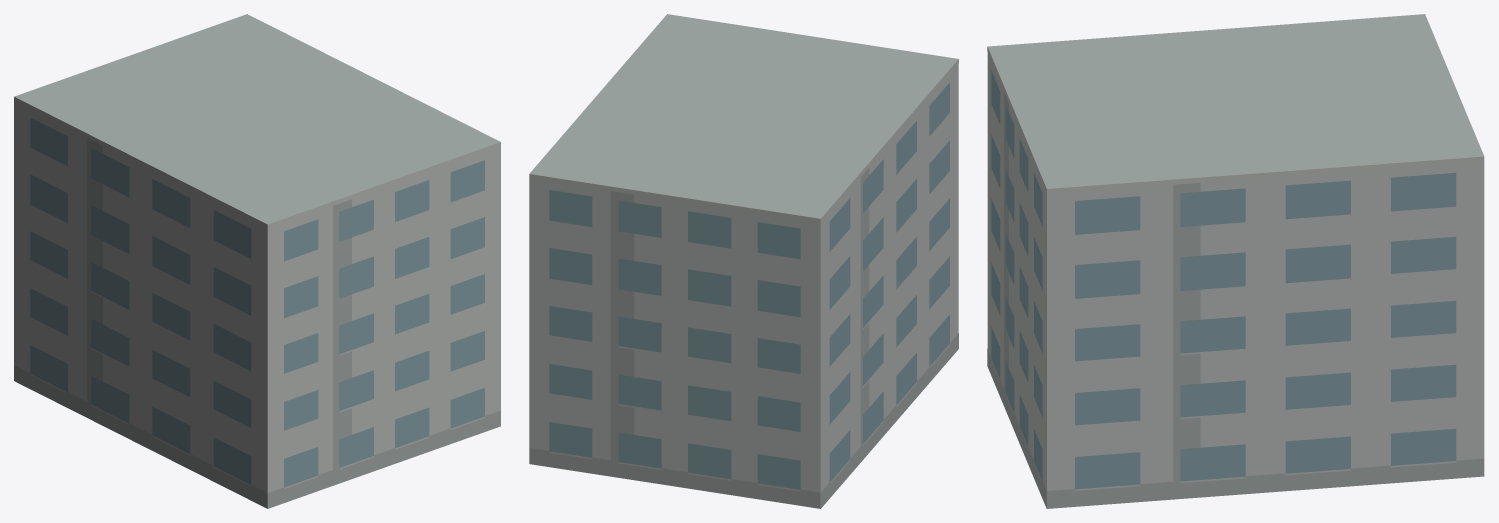
The model's file is residential-9effd6e1-1633-47a3-8011-dd7e7f212b2c.glb.
3 views of the same model, side by side, from view 1: azimuth 30°, elevation 25°; view 2: azimuth 150°, elevation 25°; view 3: azimuth 270°, elevation 25° (orthographic). The views are drawn at different scales.
Visible parts, largest first — view 1: residential-9effd6e1-1633-47a3-8011-dd7e7f212b2c.tmp; view 2: residential-9effd6e1-1633-47a3-8011-dd7e7f212b2c.tmp; view 3: residential-9effd6e1-1633-47a3-8011-dd7e7f212b2c.tmp.
Part boxes in pixels (<box>): residential-9effd6e1-1633-47a3-8011-dd7e7f212b2c.tmp: <box>14,14,500,508</box>; residential-9effd6e1-1633-47a3-8011-dd7e7f212b2c.tmp: <box>529,14,958,508</box>; residential-9effd6e1-1633-47a3-8011-dd7e7f212b2c.tmp: <box>987,14,1484,508</box>.
Size of the model in its own units: 17.89 by 15.25 by 21.47.
